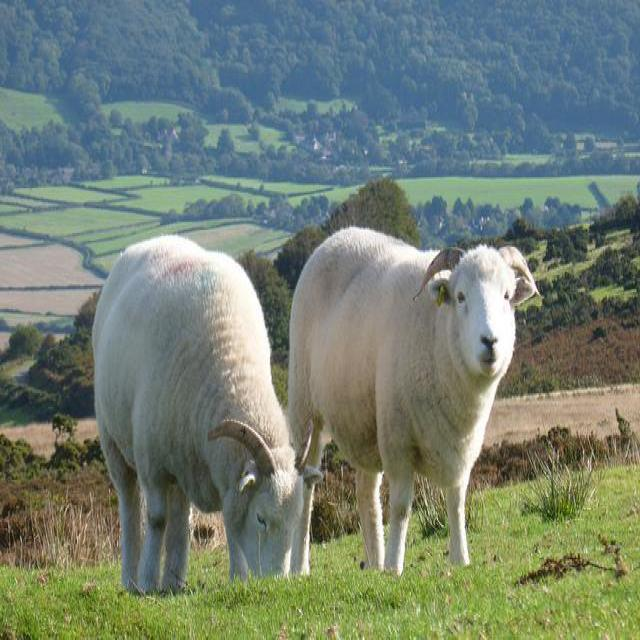Sheep: (288, 225, 542, 578), (92, 233, 309, 600)
